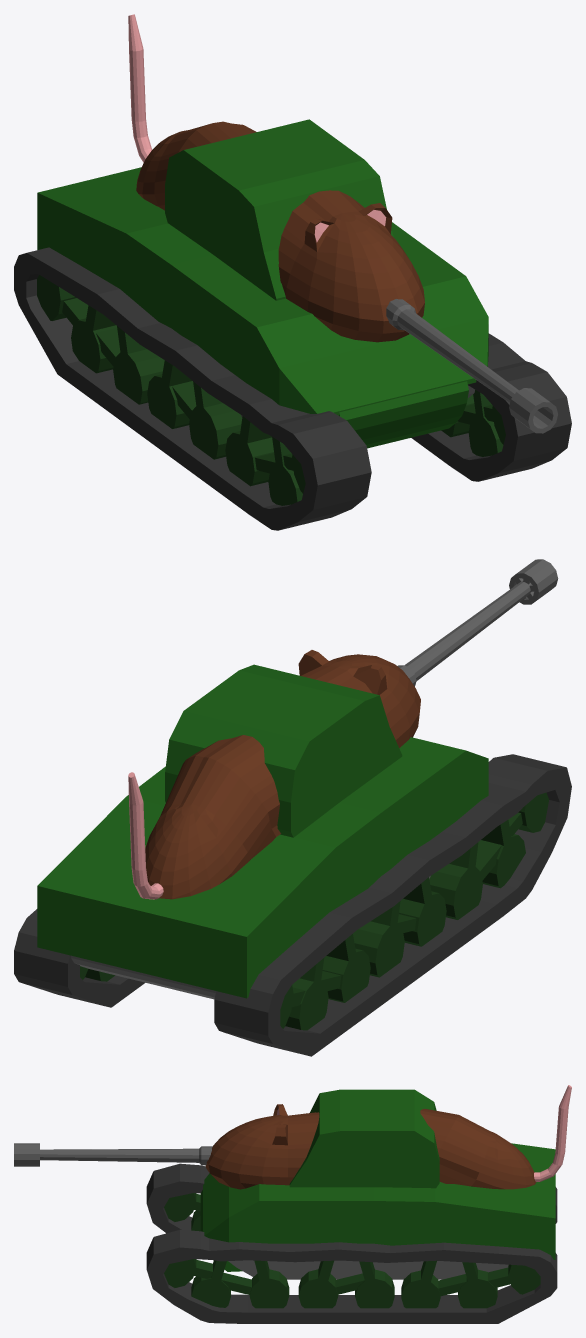
File: Tank.fbx
3 views of the same model, one above another, from view 1: azimuth 30°, elevation 25°; view 2: azimuth 150°, elevation 25°; view 3: azimuth 270°, elevation 25° (orthographic). The views are drawn at different scales.
Visible parts, largest first — view 1: Tank; view 2: Tank; view 3: Tank.
Boxes of the visible parts, x1,y1,x2,y2 form: Tank: [14, 14, 571, 530]; Tank: [14, 559, 571, 1056]; Tank: [14, 1085, 571, 1323].
Bounding box in the file's own units: 479 × 524 × 1349.
